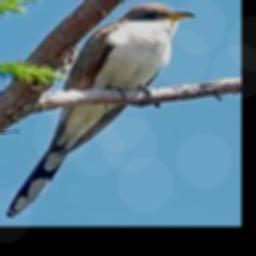Cuckoo: (7, 2, 197, 217)
